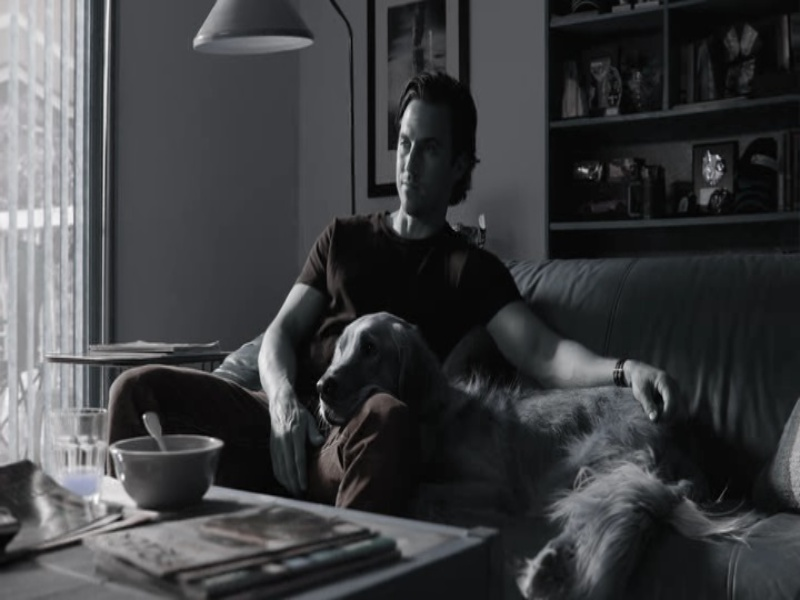TsisyArotava: (386, 76, 462, 224)
